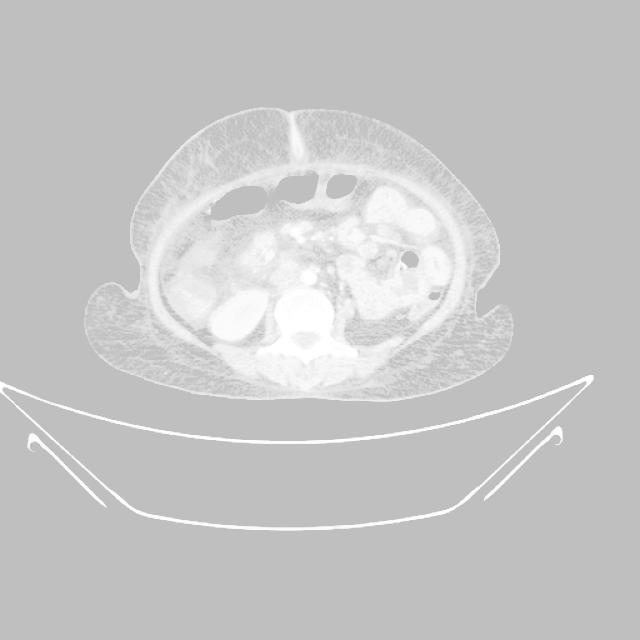NORMAL: (116, 97, 473, 403)
